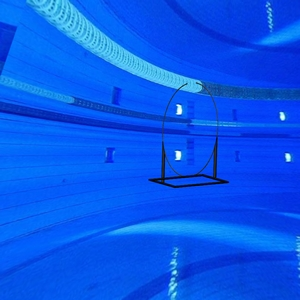circle: (147, 81, 232, 191)
